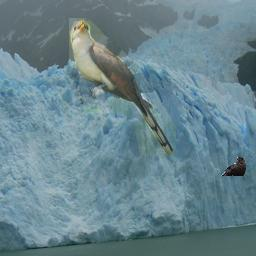Crow: (220, 156, 246, 176)
Cuckoo: (69, 18, 176, 156)
